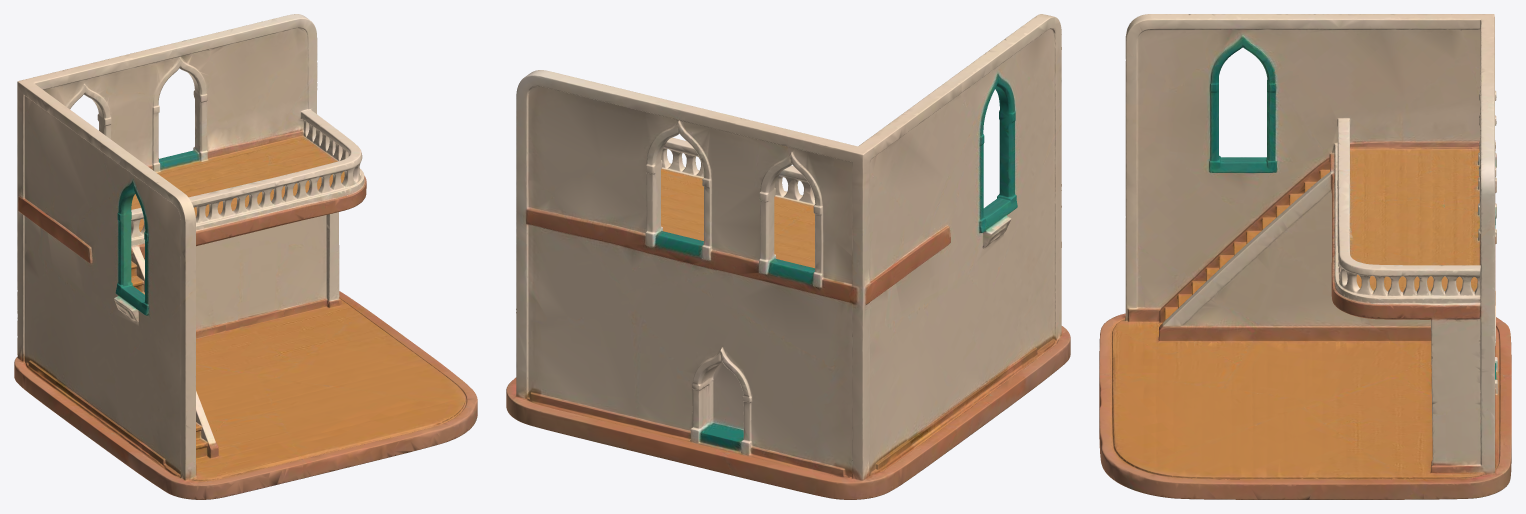
Rendered from two-level-arched-atrium.glb.
3 views of the same model, side by side, from view 1: azimuth 30°, elevation 25°; view 2: azimuth 150°, elevation 25°; view 3: azimuth 270°, elevation 25° (orthographic). The views are drawn at different scales.
Visible parts, largest first — view 1: mesh_node; view 2: mesh_node; view 3: mesh_node.
Boxes of the visible parts, x1,y1,x2,y2 form: mesh_node: (14,14,477,499); mesh_node: (506,14,1070,499); mesh_node: (1099,14,1511,499).
Size of the model in its own units: 1.9 by 1.62 by 1.9.
Materials: 1 (1 with a texture image).
